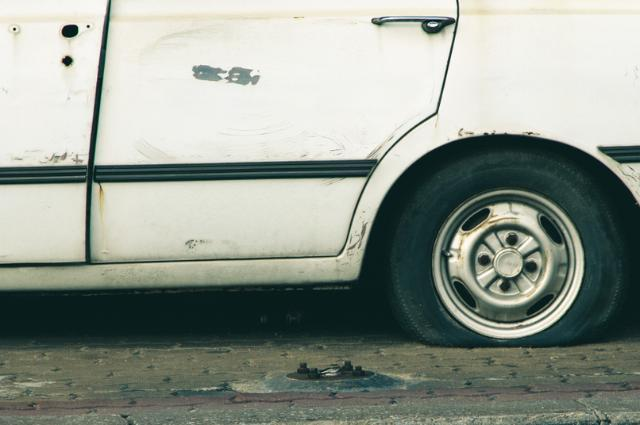Door: (17, 20, 83, 250), (185, 37, 265, 109)
